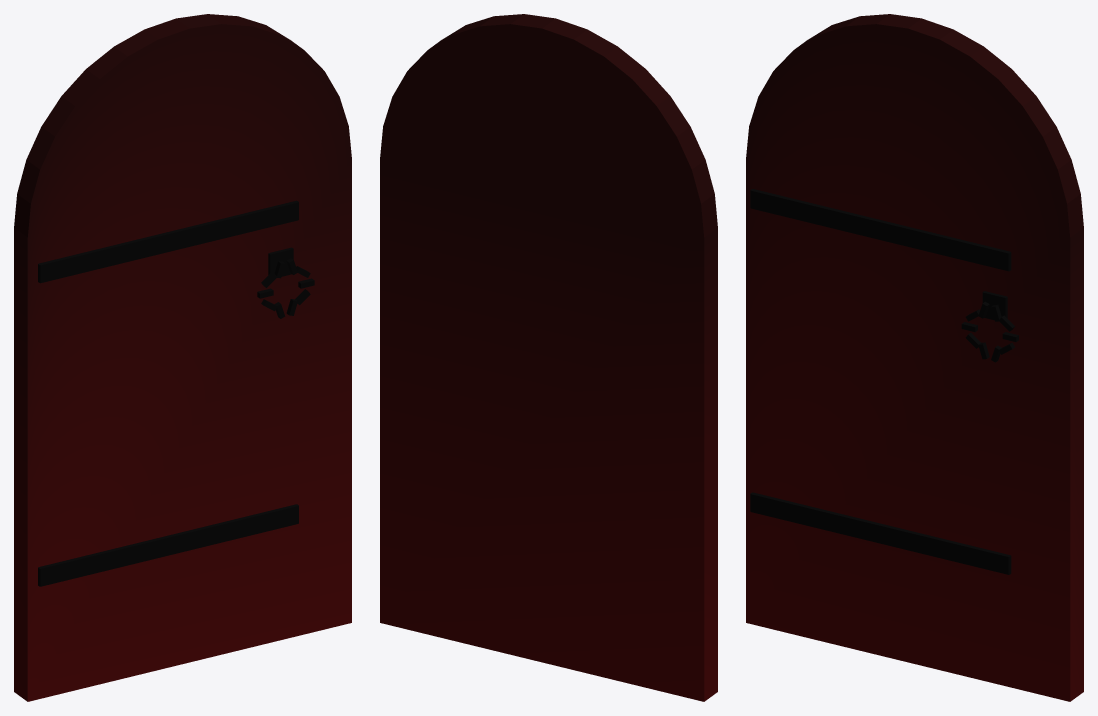
File: SilverbrookWatchtower_Door1.fbx
The picture shows the model from 3 angles, left to right: view 1: azimuth 30°, elevation 25°; view 2: azimuth 150°, elevation 25°; view 3: azimuth 330°, elevation 25°; orthographic projection.
Visible parts, largest first — view 1: SM_SBWatchtower_Details_Door1_Part; view 2: SM_SBWatchtower_Details_Door1_Part; view 3: SM_SBWatchtower_Details_Door1_Part.
Part boxes in pixels (left/top/right/bottom): SM_SBWatchtower_Details_Door1_Part: left=14, top=14, right=351, bottom=701; SM_SBWatchtower_Details_Door1_Part: left=380, top=14, right=717, bottom=701; SM_SBWatchtower_Details_Door1_Part: left=746, top=14, right=1083, bottom=701.
Bounding box in the file's own units: 95 × 177 × 11.2.
